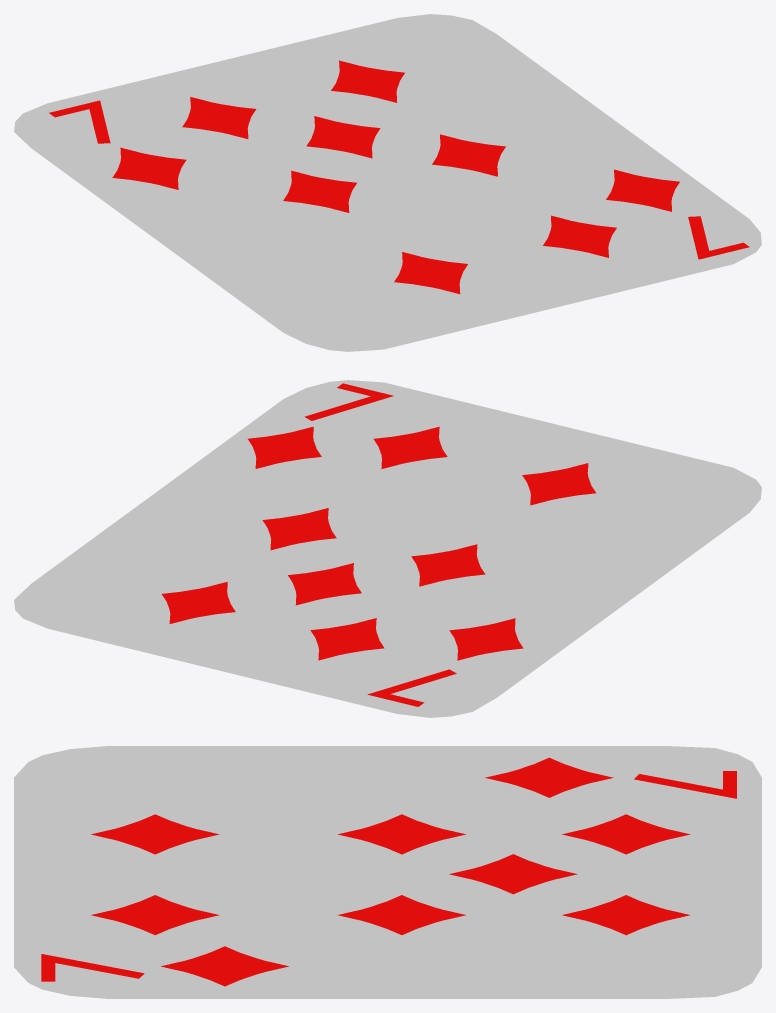
3 views of the same model, one above another, from view 1: azimuth 30°, elevation 25°; view 2: azimuth 150°, elevation 25°; view 3: azimuth 270°, elevation 25° (orthographic). The views are drawn at different scales.
Visible parts, largest first — view 1: 7ofDiamonds, Plane.039_Materia, Plane.043_Materia, Plane.042_Materia, Plane.038_Materia, Plane.035_Materia, Plane.036_Materia, Plane.041_Materia, Plane.040_Materia, Plane.037_Materia, Font.014_Bla_Blac.001, Font.013_Bla_Blac.001; view 2: 7ofDiamonds, Plane.036_Materia, Plane.035_Materia, Plane.038_Materia, Plane.039_Materia, Plane.041_Materia, Plane.042_Materia, Plane.037_Materia, Plane.040_Materia, Plane.043_Materia, Font.013_Bla_Blac.001, Font.014_Bla_Blac.001; view 3: 7ofDiamonds, Plane.042_Materia, Plane.043_Materia, Plane.037_Materia, Plane.041_Materia, Plane.038_Materia, Plane.039_Materia, Plane.035_Materia, Plane.036_Materia, Plane.040_Materia, Font.014_Bla_Blac.001, Font.013_Bla_Blac.001.
Part boxes in pixels (box(x1,y1,x2,y2)): 7ofDiamonds: box(14, 14, 761, 351); Plane.039_Materia: box(112, 147, 186, 189); Plane.043_Materia: box(306, 116, 380, 158); Plane.042_Materia: box(394, 252, 467, 294); Plane.038_Materia: box(331, 60, 404, 102); Plane.035_Materia: box(283, 170, 356, 212); Plane.036_Materia: box(432, 134, 505, 176); Plane.041_Materia: box(182, 97, 256, 138); Plane.040_Materia: box(606, 169, 679, 211); Plane.037_Materia: box(543, 215, 616, 257); Font.014_Bla_Blac.001: box(688, 216, 749, 259); Font.013_Bla_Blac.001: box(49, 100, 110, 143); 7ofDiamonds: box(14, 380, 761, 717); Plane.036_Materia: box(262, 508, 336, 550); Plane.035_Materia: box(411, 544, 485, 586); Plane.038_Materia: box(162, 582, 235, 623); Plane.039_Materia: box(449, 618, 523, 660); Plane.041_Materia: box(310, 618, 384, 660); Plane.042_Materia: box(522, 463, 595, 505); Plane.037_Materia: box(373, 426, 447, 468); Plane.040_Materia: box(248, 426, 321, 468); Plane.043_Materia: box(288, 563, 361, 605); Font.013_Bla_Blac.001: box(367, 669, 456, 706); Font.014_Bla_Blac.001: box(304, 383, 393, 420); 7ofDiamonds: box(14, 746, 761, 998); Plane.042_Materia: box(91, 814, 219, 854); Plane.043_Materia: box(449, 854, 577, 894); Plane.037_Materia: box(91, 895, 219, 935); Plane.041_Materia: box(562, 814, 690, 854); Plane.038_Materia: box(562, 895, 690, 935); Plane.039_Materia: box(485, 757, 613, 797); Plane.035_Materia: box(338, 814, 465, 854); Plane.036_Materia: box(337, 895, 465, 934); Plane.040_Materia: box(161, 946, 288, 986); Font.014_Bla_Blac.001: box(41, 954, 144, 981); Font.013_Bla_Blac.001: box(634, 771, 736, 798).
Bounding box in the file's own units: 1.6 × 0.00974 × 2.
